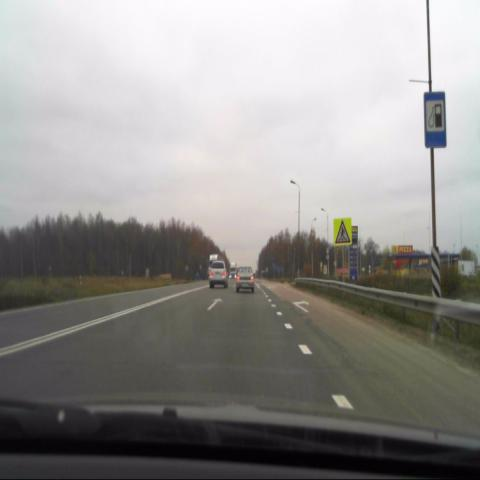1_22: (332, 217, 352, 246)
